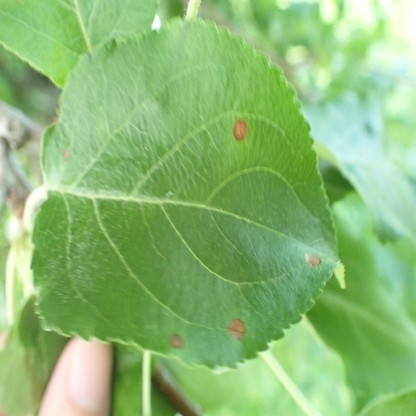frogeye_leaf_spot: (228, 317, 246, 339), (233, 121, 247, 139), (170, 334, 185, 348), (307, 255, 321, 266), (62, 148, 68, 159)
